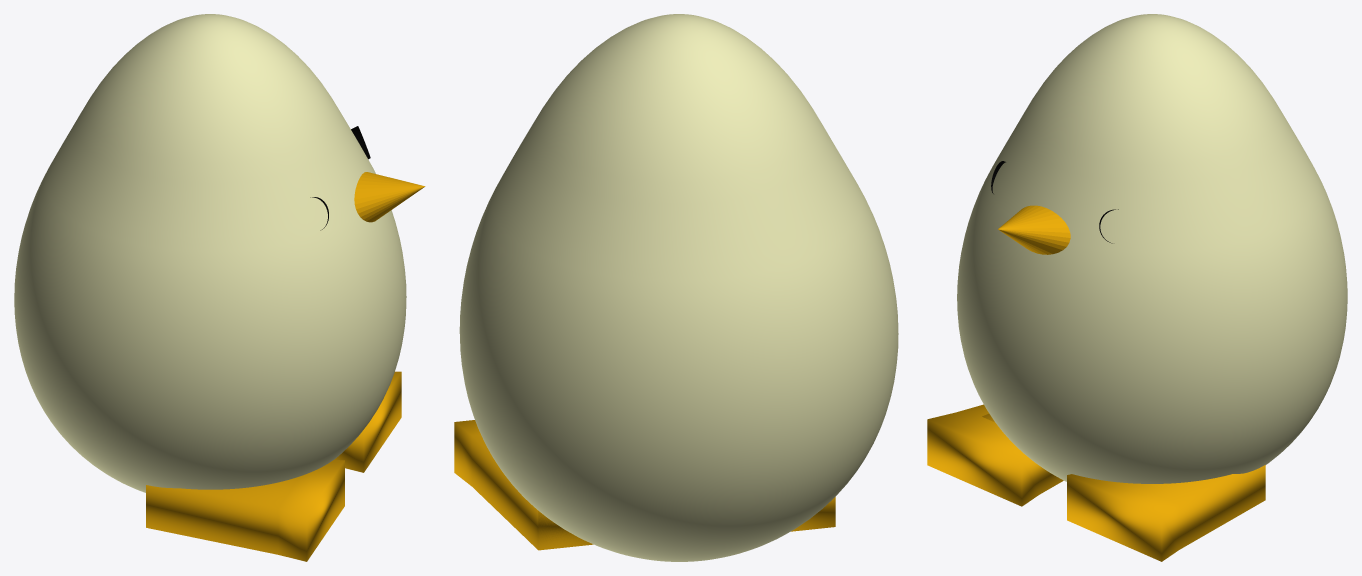
The model's file is Egg-DSl7is92.glb.
3 views of the same model, side by side, from view 1: azimuth 30°, elevation 25°; view 2: azimuth 150°, elevation 25°; view 3: azimuth 270°, elevation 25° (orthographic). The views are drawn at different scales.
Visible parts, largest first — view 1: Sphere, Cube, Cube.001, Cone; view 2: Sphere, Cube.001, Cube; view 3: Sphere, Cube.001, Cube, Cone.
Part boxes in pixels (left/top/right/bottom): Sphere: left=14, top=14, right=406, bottom=492; Cube: left=146, top=460, right=344, bottom=561; Cube.001: left=334, top=371, right=401, bottom=472; Cone: left=354, top=172, right=425, bottom=222; Sphere: left=459, top=14, right=898, bottom=561; Cube.001: left=454, top=420, right=593, bottom=550; Cube: left=791, top=497, right=835, bottom=531; Sphere: left=957, top=14, right=1347, bottom=483; Cube.001: left=1067, top=465, right=1265, bottom=561; Cube: left=927, top=404, right=1063, bottom=506; Cone: left=998, top=205, right=1070, bottom=254.
Bounding box in the file's own units: 2.15 × 2.61 × 2.15.
